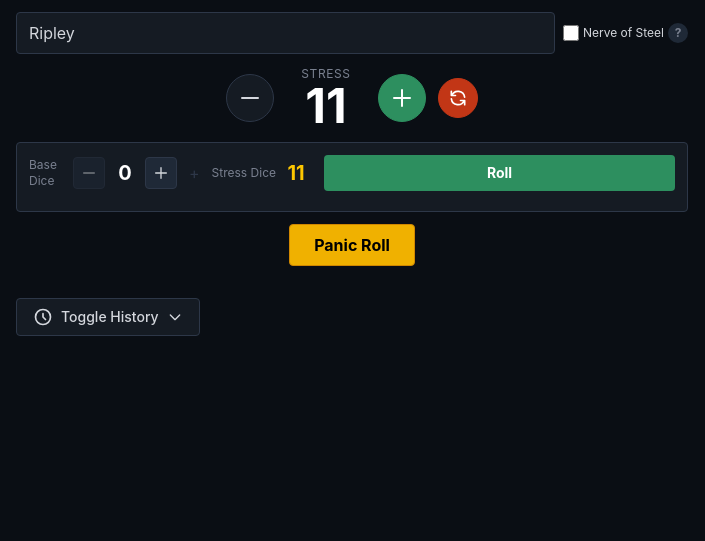
Test: StressTracker › displays alert zone for notes and action loss
Click the button with aria-label "Panic Roll": (352, 245) left=289, top=224, right=415, bottom=266
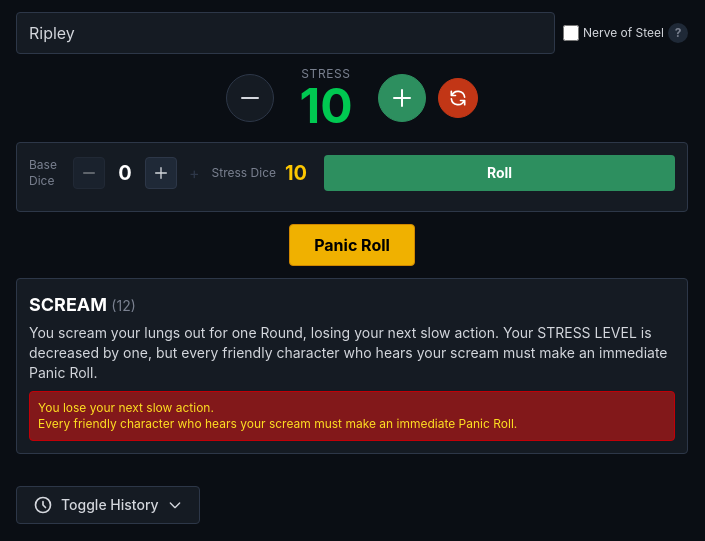
Result: the element that starts with "You lose your next slow action." is shown at left=29, top=391, right=675, bottom=441
Result: the element that starts with "You lose your next slow action." shows "Every friendly character who hears your scream must make an immediate Panic Roll." at left=38, top=416, right=517, bottom=431
